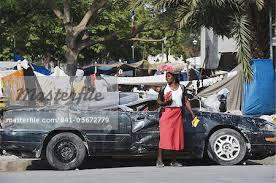doorouter-dent: (132, 110, 159, 150)
fender-dent: (203, 110, 252, 134)
